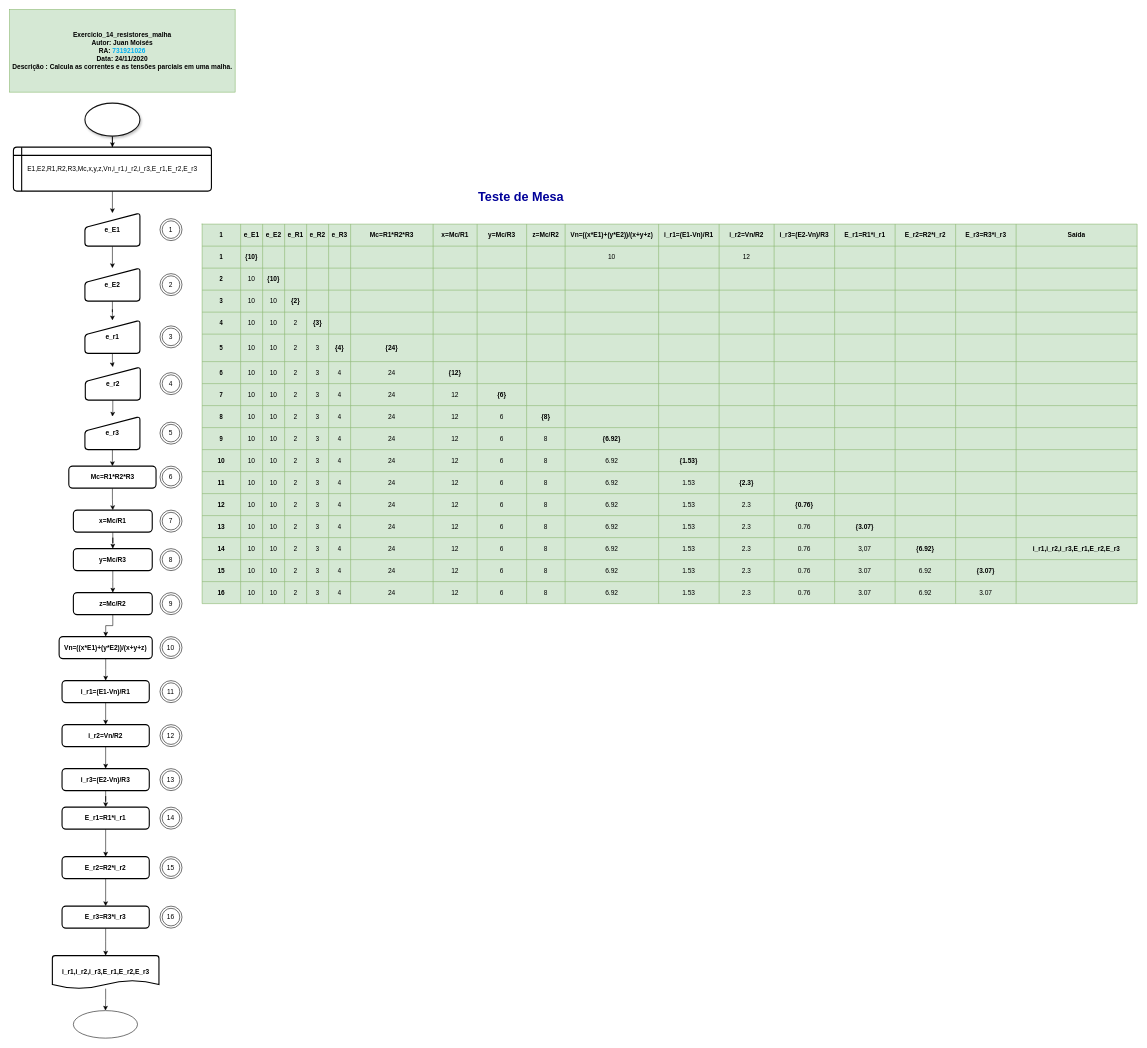
Some shapes in this 1147 by 1048 pixel diagram are drawn without their labels. Here are the shapes that lost their labels. From the top down, the centre of each, then its label:
the point at 112,120: Inicio
the point at 105,1024: Fim
